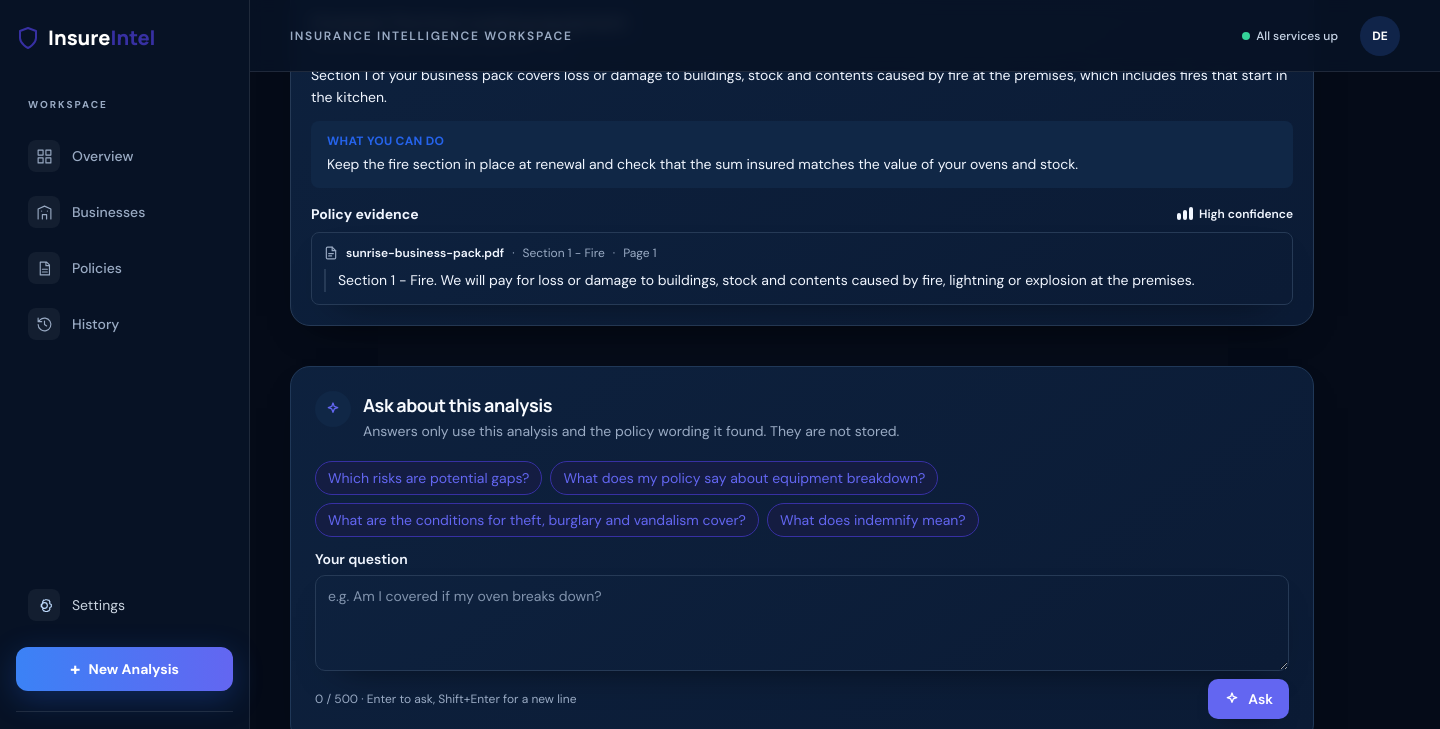
ask about this analysis › answers an example question with the clauses and risks behind it
The image size is (1440, 729).
(page scrolled)
Click the button "Which risks are potential gaps?": x=429, y=478 [315, 460, 542, 494]
(page scrolled)
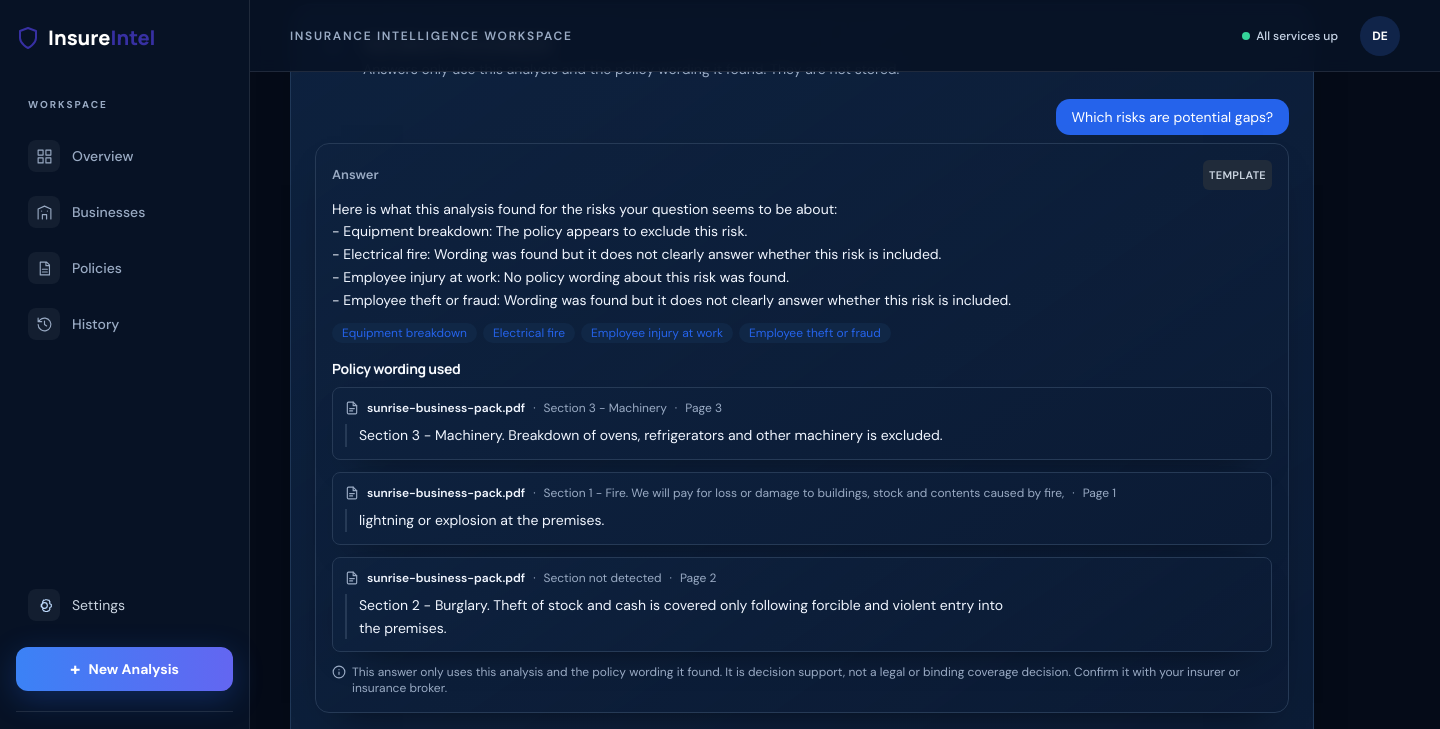
Expected: the element named "Answer to: Which risks are potential gaps?" shows "Here is what this analysis found for the risks your question seems to be about:", [332, 200, 1011, 308]
Expected: the text "Template" is shown, [1209, 168, 1266, 182]
Expected: the list named "Risks this answer is about" is shown, [332, 323, 891, 343]
